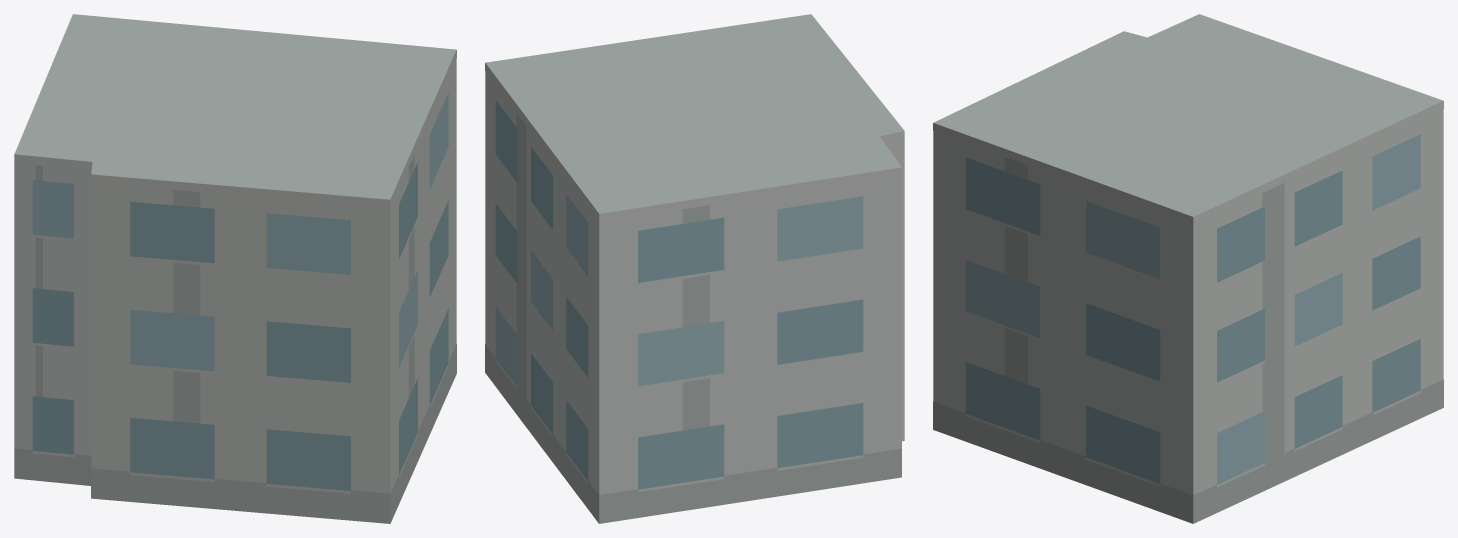
Rendered from residential-5bbc1762-b7d5-452f-931d-f0bf49783d1f.glb.
3 views of the same model, side by side, from view 1: azimuth 30°, elevation 25°; view 2: azimuth 150°, elevation 25°; view 3: azimuth 270°, elevation 25° (orthographic). The views are drawn at different scales.
Visible parts, largest first — view 1: residential-5bbc1762-b7d5-452f-931d-f0bf49783d1f.tmp; view 2: residential-5bbc1762-b7d5-452f-931d-f0bf49783d1f.tmp; view 3: residential-5bbc1762-b7d5-452f-931d-f0bf49783d1f.tmp.
Boxes of the visible parts, x1,y1,x2,y2 form: residential-5bbc1762-b7d5-452f-931d-f0bf49783d1f.tmp: (14, 14, 456, 523); residential-5bbc1762-b7d5-452f-931d-f0bf49783d1f.tmp: (485, 14, 904, 523); residential-5bbc1762-b7d5-452f-931d-f0bf49783d1f.tmp: (933, 14, 1443, 523).
Size of the model in its own units: 12.98 by 9.15 by 13.8.
